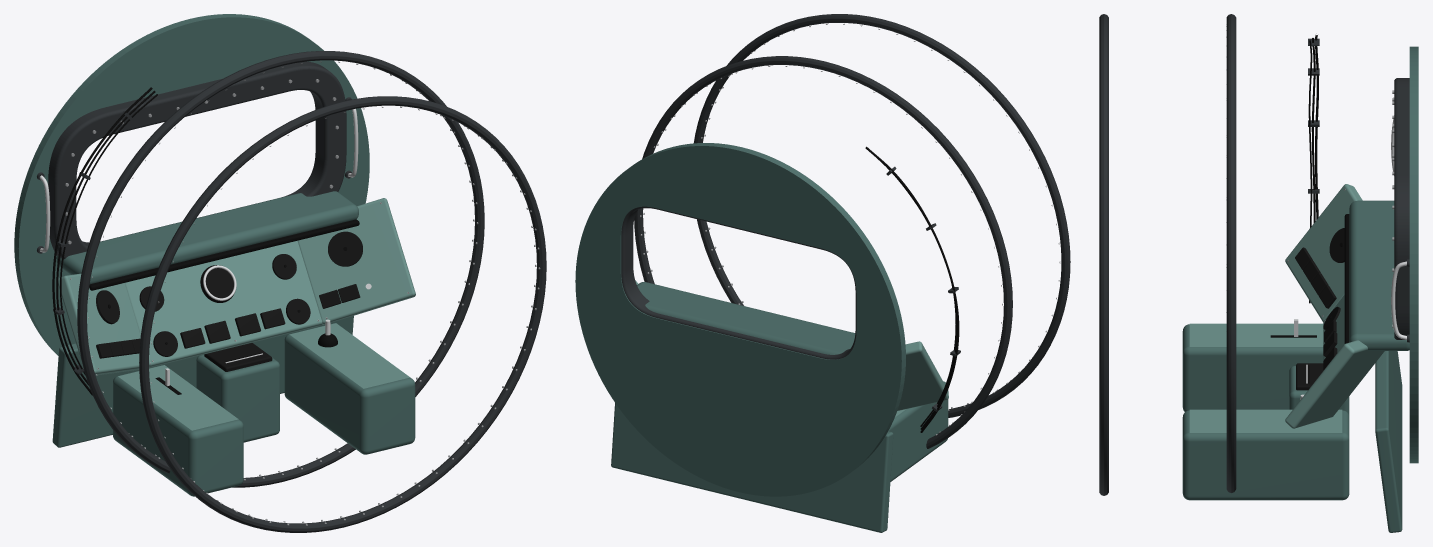
File: cockpit.glb
3 renders of one model, left to right at view 1: azimuth 30°, elevation 25°; view 2: azimuth 150°, elevation 25°; view 3: azimuth 270°, elevation 25°, orthographic. The views are drawn at different scales.
Visible parts, largest first — view 1: cockpit_use; view 2: cockpit_use; view 3: cockpit_use.
Part boxes in pixels (bbox=[...]): cockpit_use: bbox=[14, 14, 546, 532]; cockpit_use: bbox=[575, 14, 1070, 532]; cockpit_use: bbox=[1099, 14, 1418, 532].
Size of the model in its own units: 2.08 by 2.08 by 1.38.
